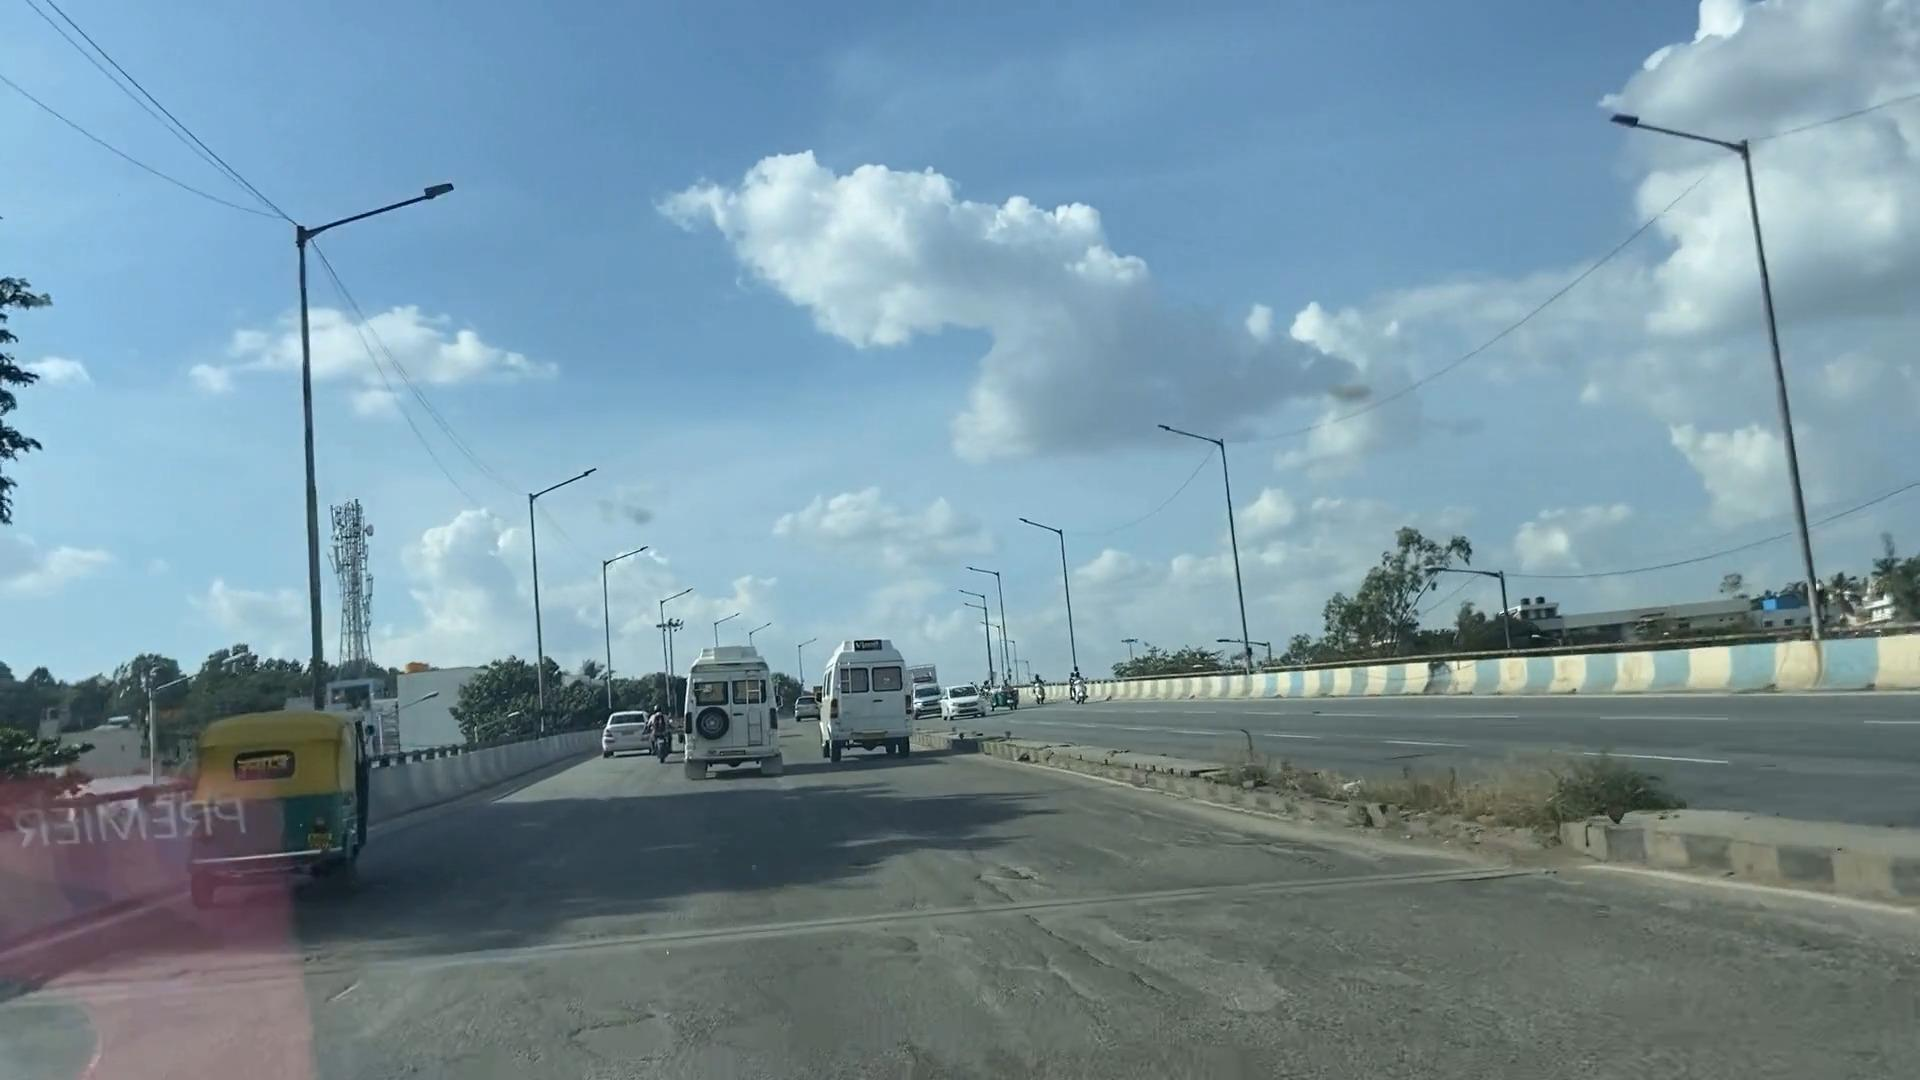HMV: (682, 644, 782, 783), (819, 634, 919, 761)
LMV: (182, 709, 371, 902)
RoadDamages: (893, 924, 1299, 1023), (1110, 796, 1337, 872), (554, 998, 691, 1069), (964, 847, 1059, 901)
SpeedBump: (24, 851, 1542, 1022)
